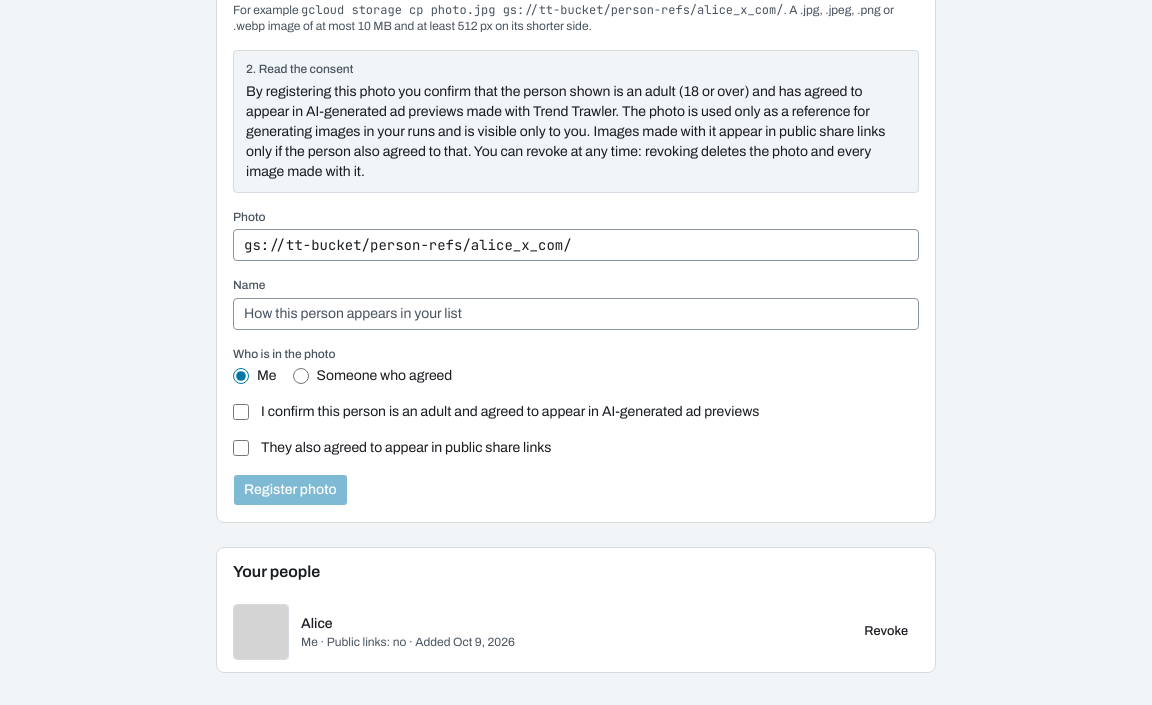
Scenario: PeoplePage › revokes after confirming that the photo and its images are deleted
The width and height of the screenshot is (1152, 705).
(page scrolled)
Click the button with aria-label "Revoke Alice" at {"x": 886, "y": 632}, box [853,618,919,646]
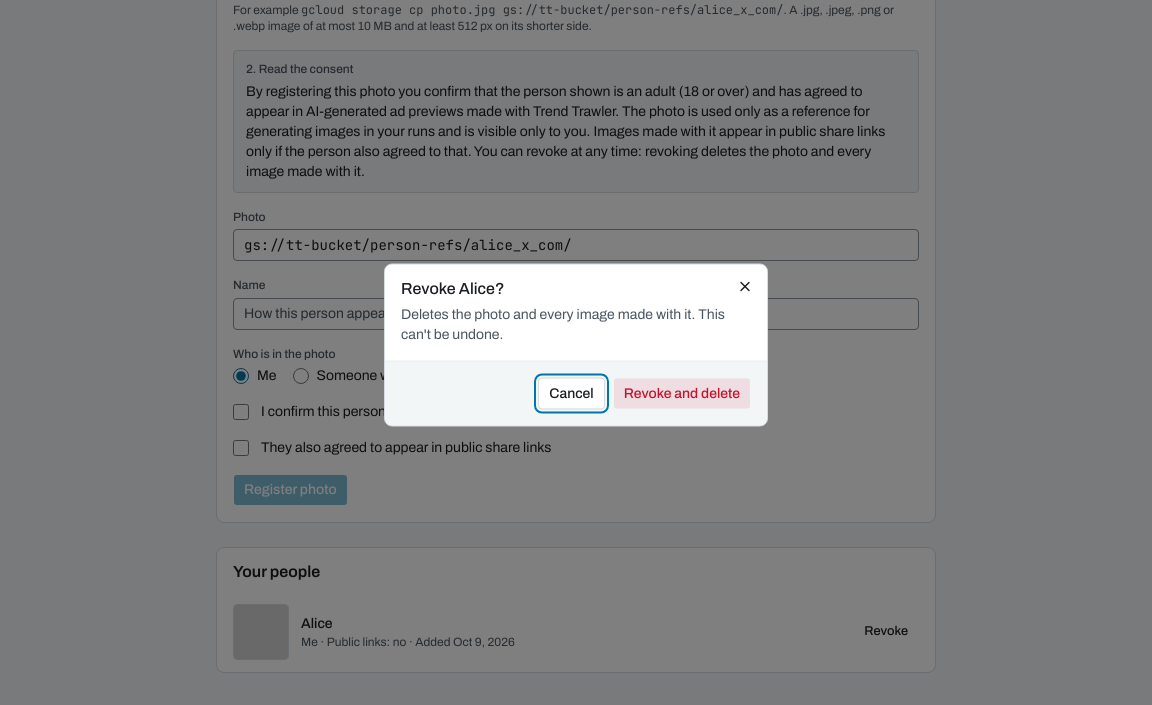
Check: the heading "Revoke Alice?" is shown, box [401,280,504,296]
Check: the text "Deletes the photo and every image made with it" is shown, box [401,306,725,342]
Click the button "Revoke and delete" at {"x": 682, "y": 394}, box [613,378,751,410]
(page scrolled)
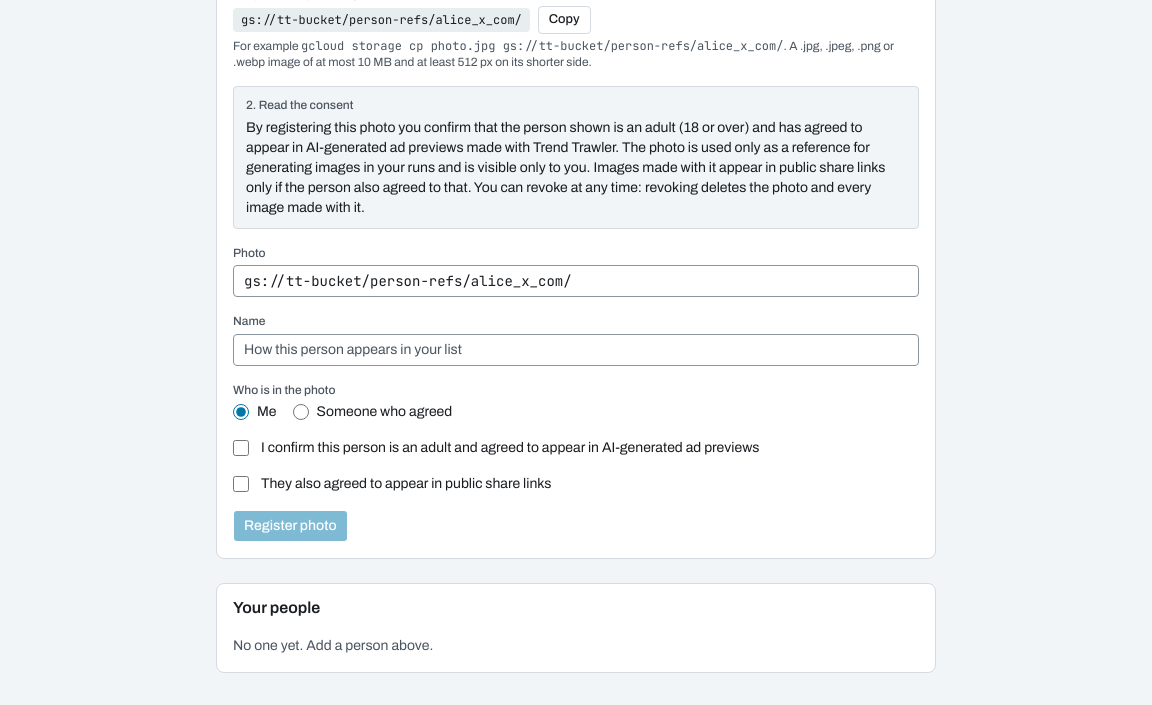
Check: the text "No one yet. Add a person above." is shown, box [233,638,433,653]
